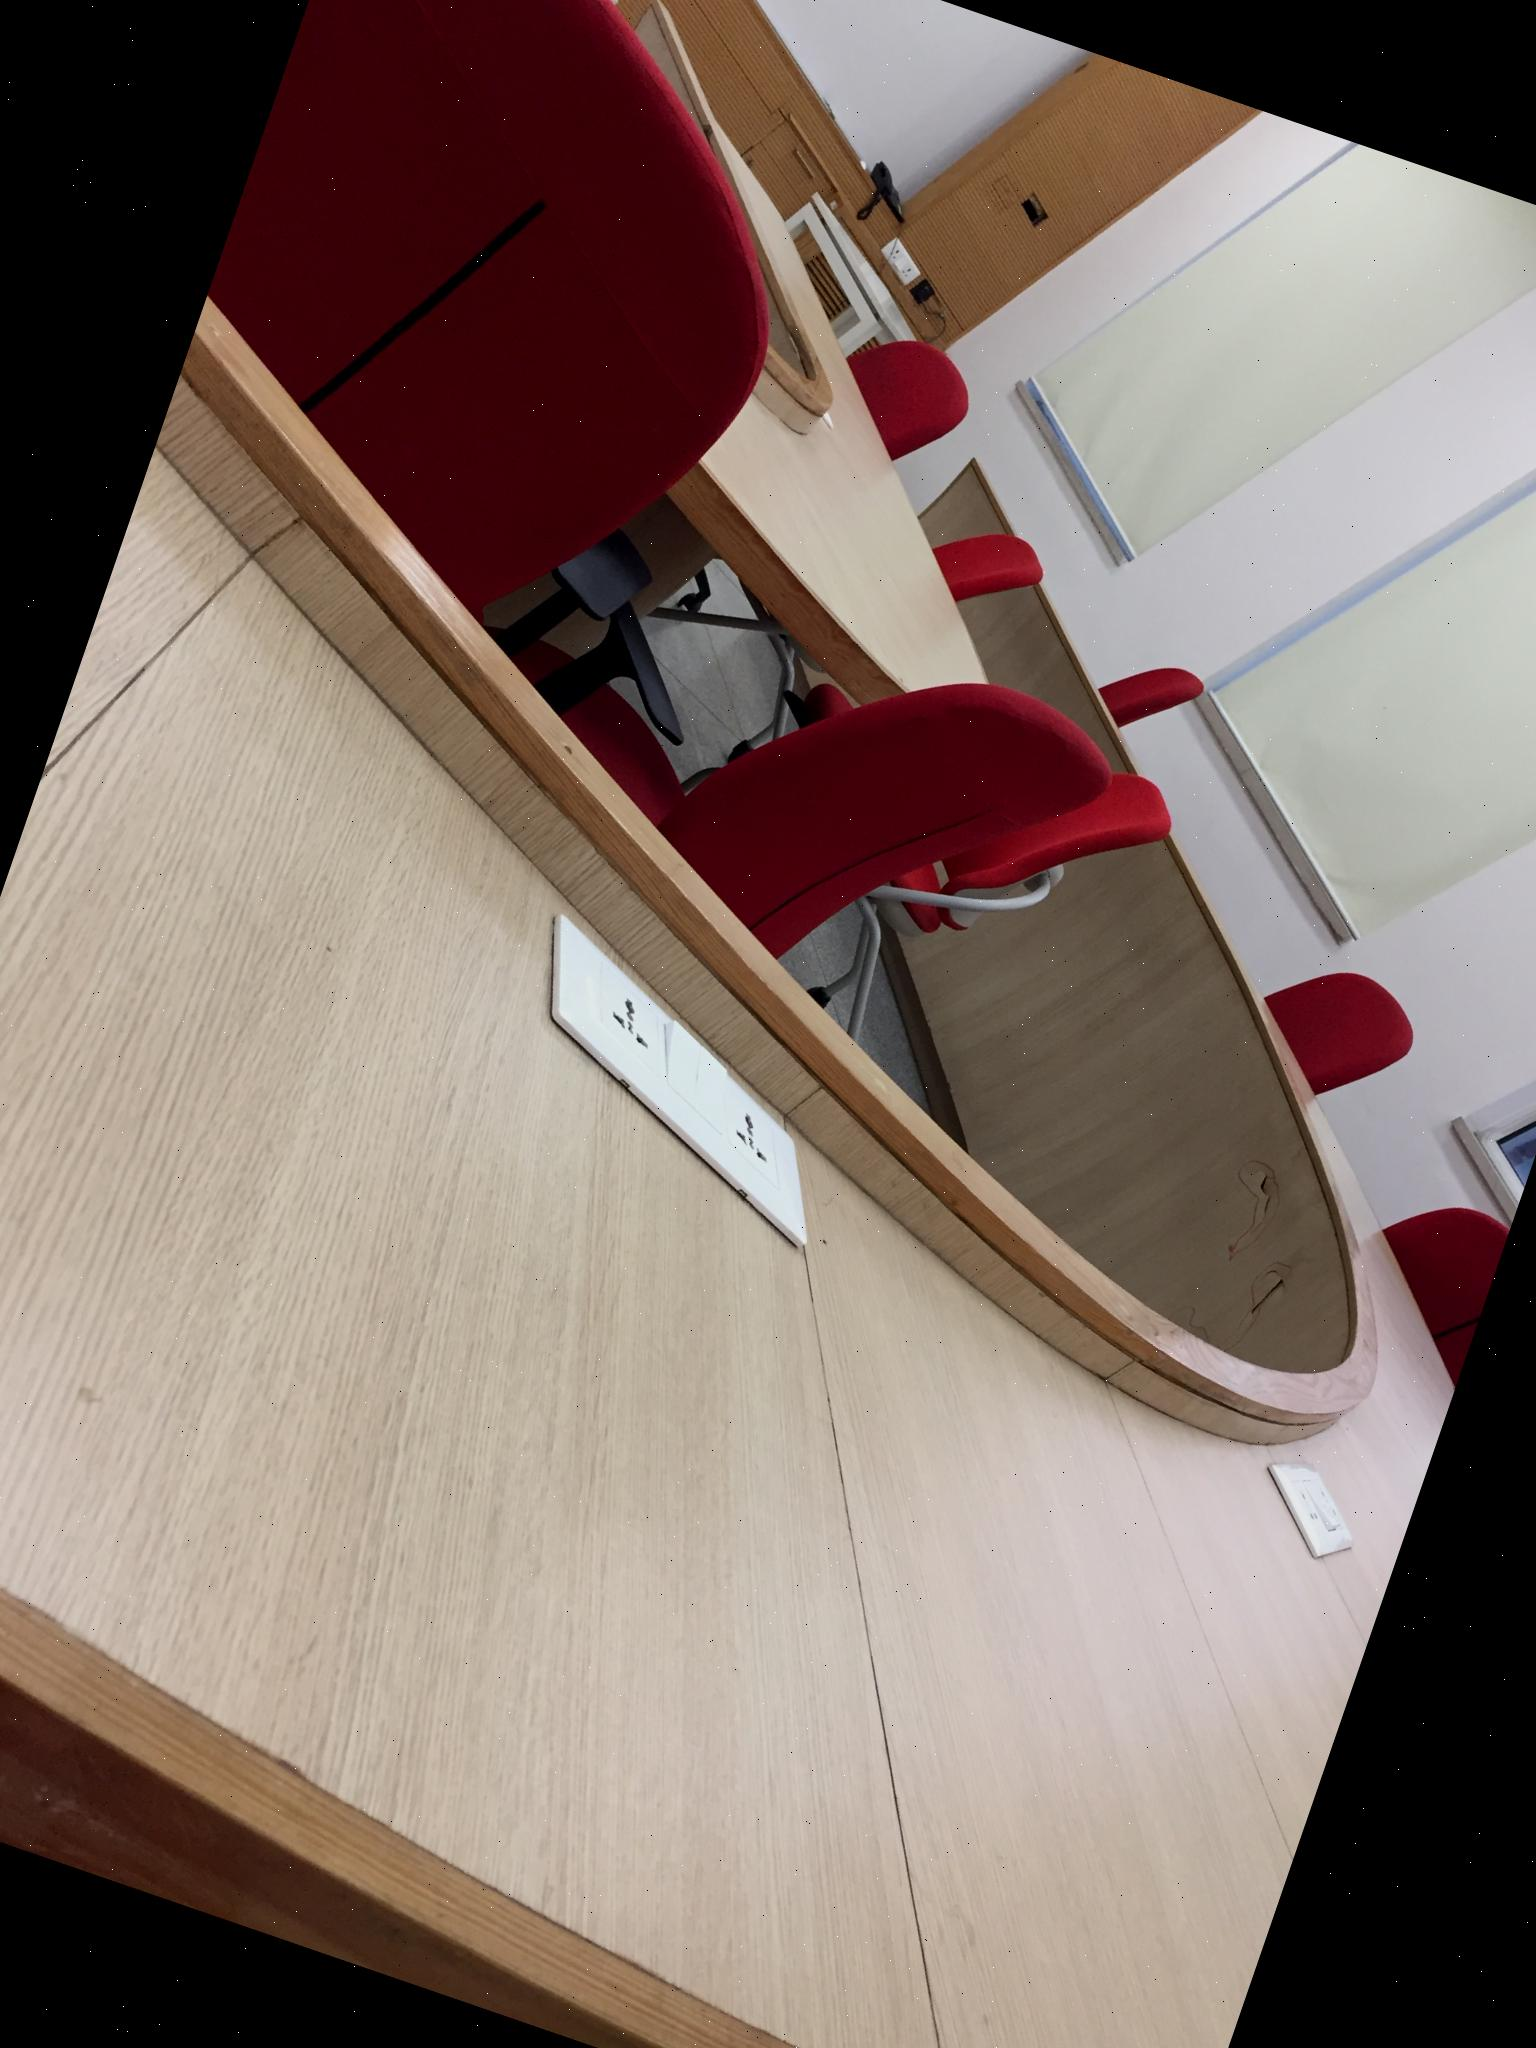chair: (115, 0, 921, 756), (460, 539, 1197, 1114), (771, 289, 1026, 519), (1338, 1179, 1512, 1387), (879, 493, 1092, 655), (1236, 945, 1428, 1122), (1097, 614, 1252, 753)
